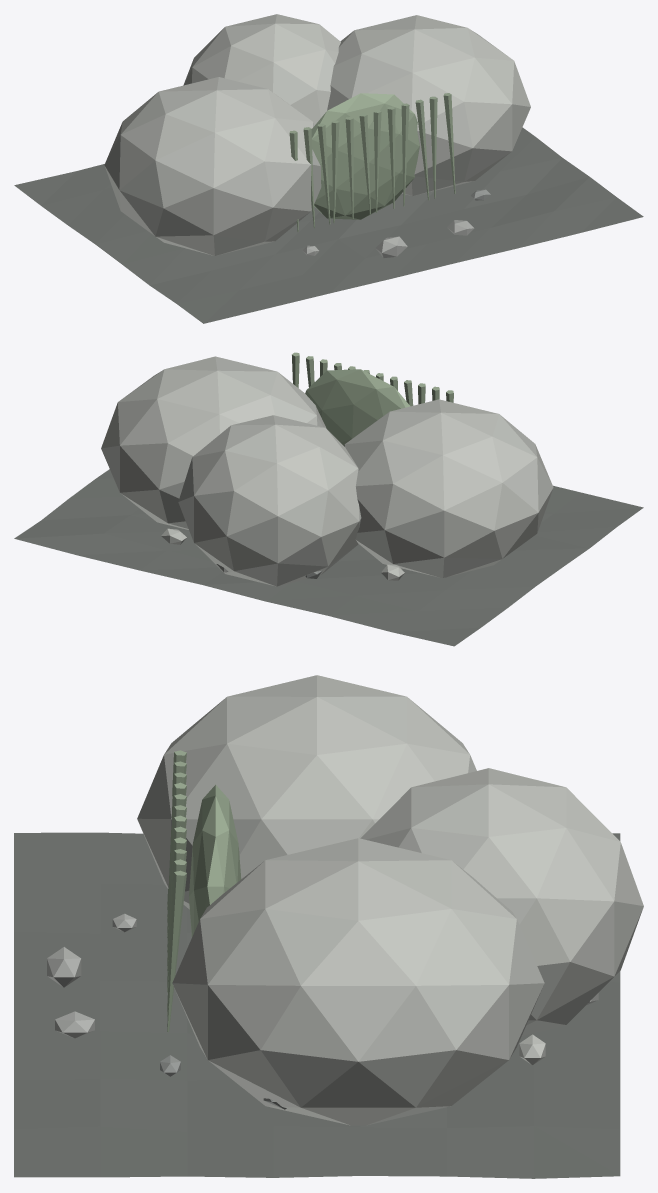
The model's file is boulder_moss_curtain_sealed.glb.
The picture shows the model from 3 angles, top to bottom: view 1: azimuth 30°, elevation 25°; view 2: azimuth 150°, elevation 25°; view 3: azimuth 270°, elevation 25°; orthographic projection. The views are drawn at different scales.
Visible parts, largest first — view 1: boulder_moss_curtain_sealed_color_03, boulder_moss_curtain_sealed_color_00, boulder_moss_curtain_sealed_color_04, boulder_moss_curtain_sealed_color_02; view 2: boulder_moss_curtain_sealed_color_03, boulder_moss_curtain_sealed_color_00, boulder_moss_curtain_sealed_color_04; view 3: boulder_moss_curtain_sealed_color_03, boulder_moss_curtain_sealed_color_00, boulder_moss_curtain_sealed_color_04, boulder_moss_curtain_sealed_color_02.
Part boxes in pixels (x1,y1,x2,y2): boulder_moss_curtain_sealed_color_03: (104,14,530,255); boulder_moss_curtain_sealed_color_00: (14,127,643,323); boulder_moss_curtain_sealed_color_04: (289,93,455,232); boulder_moss_curtain_sealed_color_02: (302,220,474,257); boulder_moss_curtain_sealed_color_03: (101,356,553,586); boulder_moss_curtain_sealed_color_00: (14,469,643,646); boulder_moss_curtain_sealed_color_04: (292,352,453,445); boulder_moss_curtain_sealed_color_03: (137,675,643,1125); boulder_moss_curtain_sealed_color_00: (14,832,620,1178); boulder_moss_curtain_sealed_color_04: (167,750,241,1032); boulder_moss_curtain_sealed_color_02: (47,913,598,1038).
Size of the model in its own units: 3.93 by 1.3 by 3.05.
